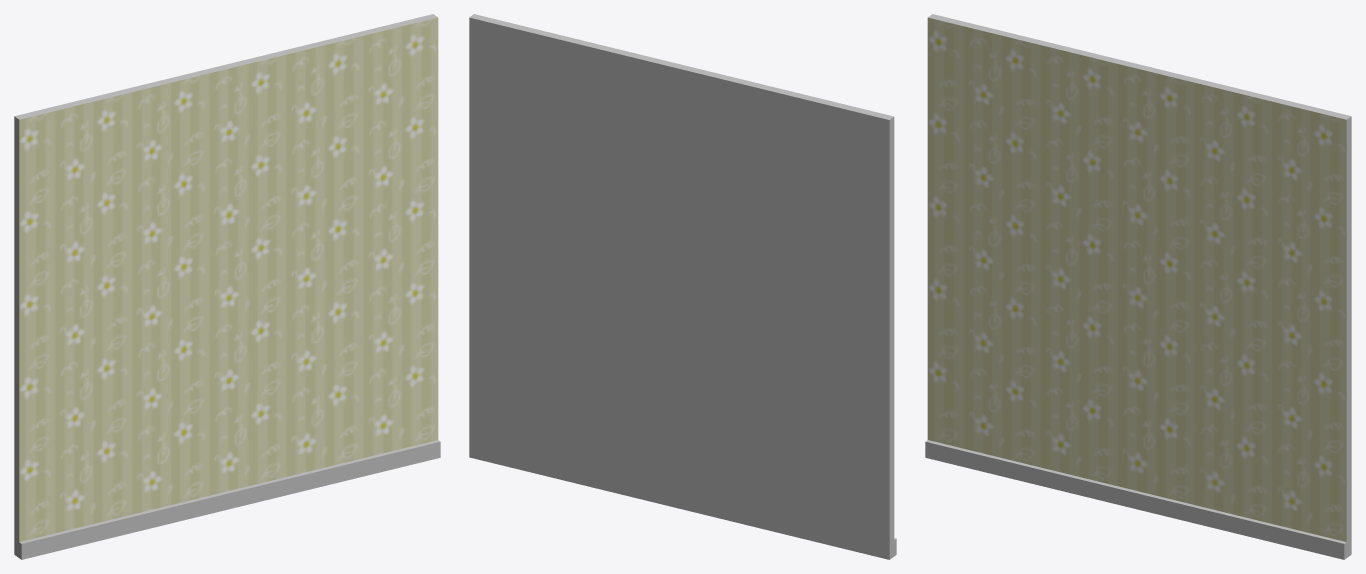
Rendered from Wall_WP_07.FBX.
The picture shows the model from 3 angles, left to right: view 1: azimuth 30°, elevation 25°; view 2: azimuth 150°, elevation 25°; view 3: azimuth 330°, elevation 25°; orthographic projection.
Parts seen in each view (by area): view 1: Wall_WP_01_5m; view 2: Wall_WP_01_5m; view 3: Wall_WP_01_5m.
Boxes of the visible parts, left/top/right/bottom form: Wall_WP_01_5m: left=14, top=14, right=440, bottom=559; Wall_WP_01_5m: left=469, top=14, right=896, bottom=559; Wall_WP_01_5m: left=925, top=14, right=1351, bottom=559.
Bounding box in the file's own units: 19685 × 19685 × 591.
